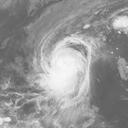cyclone: (38, 38, 91, 106)
